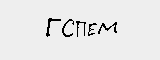Е: (18, 20, 30, 37)
К: (51, 24, 64, 42)
Н: (101, 16, 131, 43)
Ч: (133, 19, 154, 38)
Щ: (63, 17, 100, 47)
Ң: (31, 23, 50, 44)
